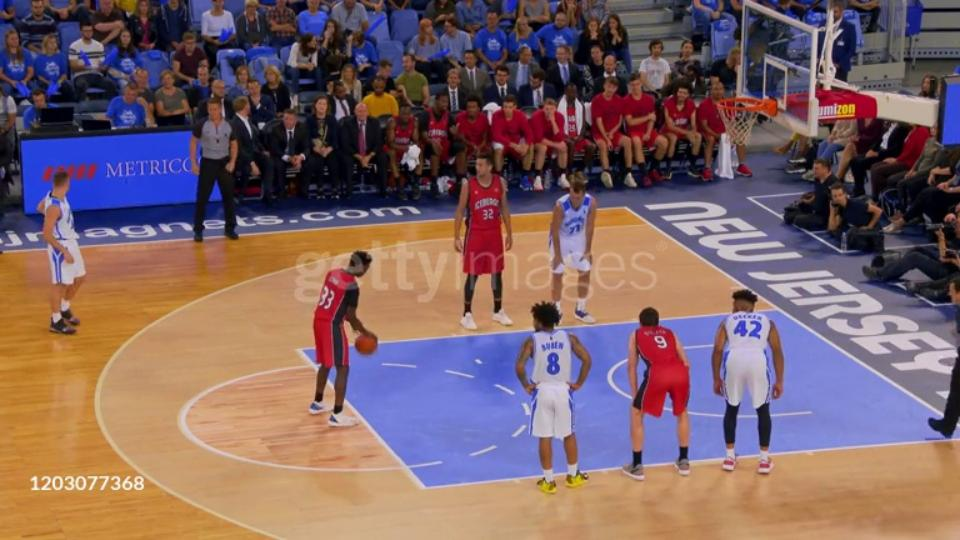hoop: (713, 94, 783, 122)
